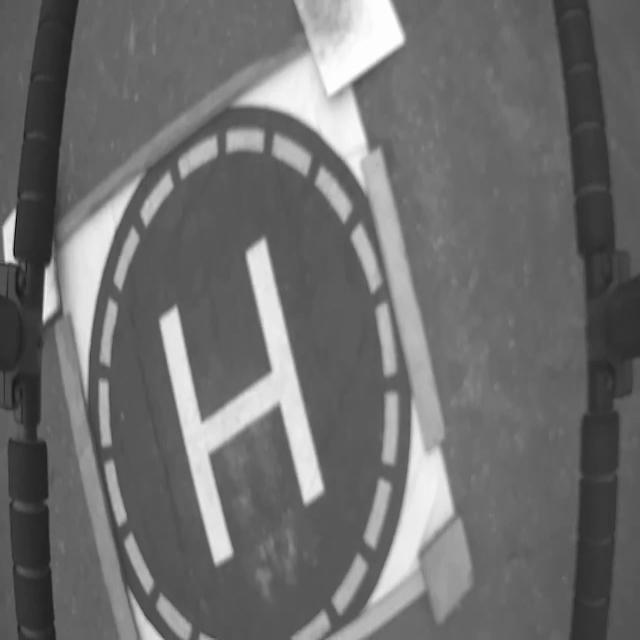Helipad: (159, 237, 324, 566)
